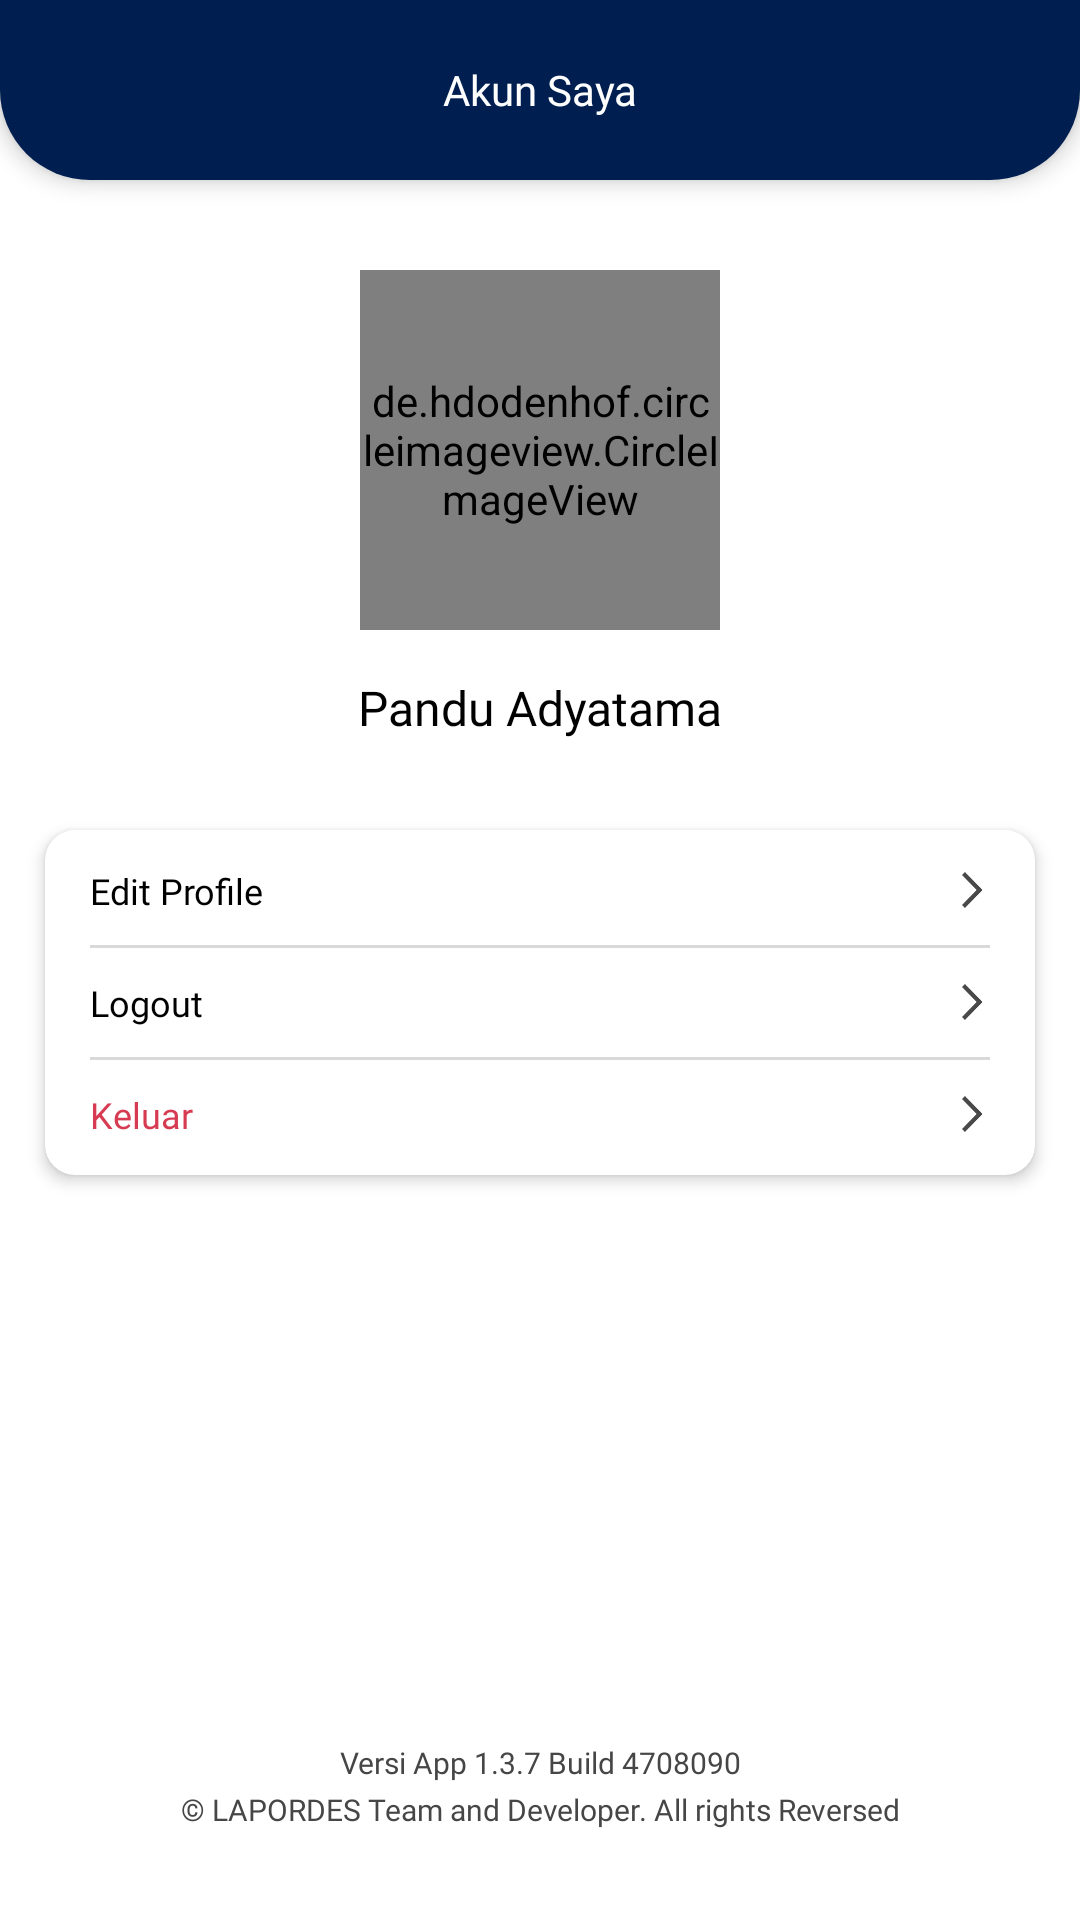

Screen size 1080 x 1920. Icon name, then its box in pixels as (x1, y1, x2, y2):
right arrow: (962, 872, 982, 908), (962, 984, 982, 1020), (962, 1096, 982, 1132)
